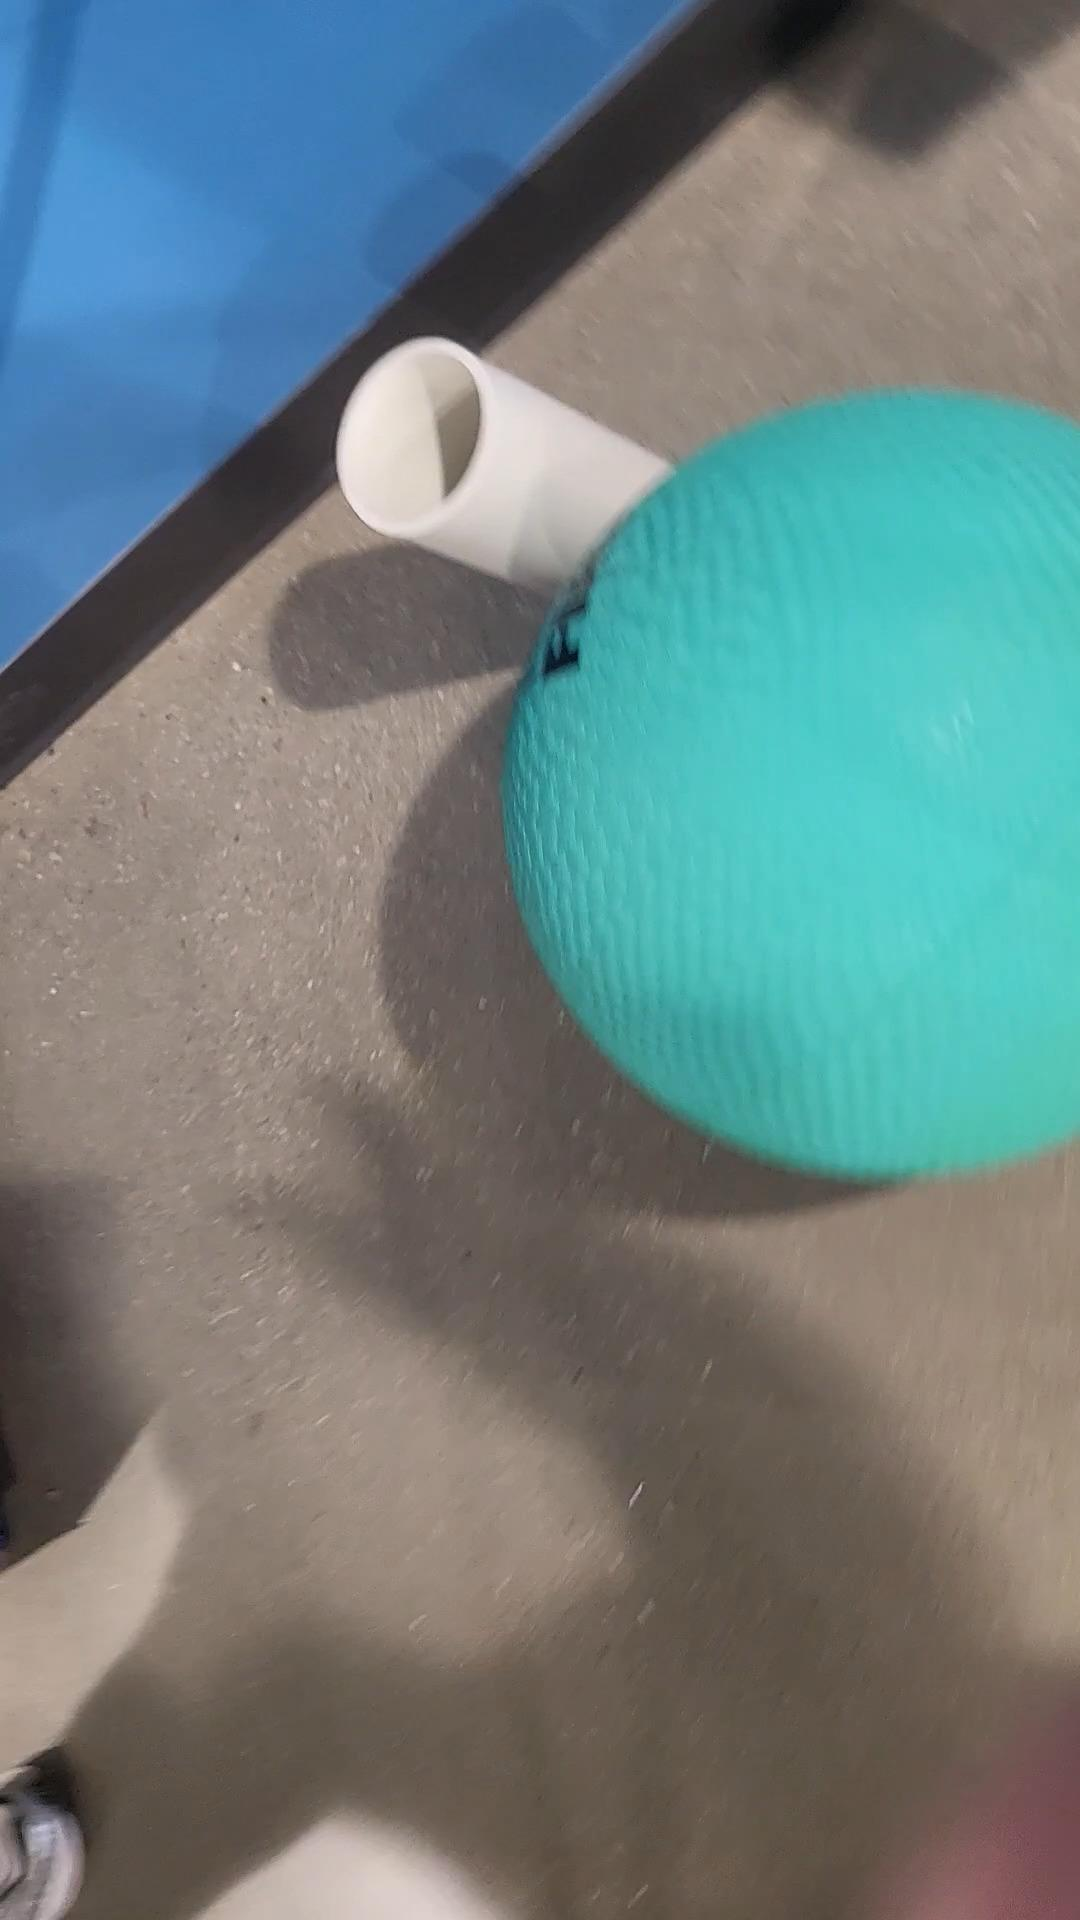algae: (502, 390, 1080, 1170)
coral: (338, 340, 684, 603)
